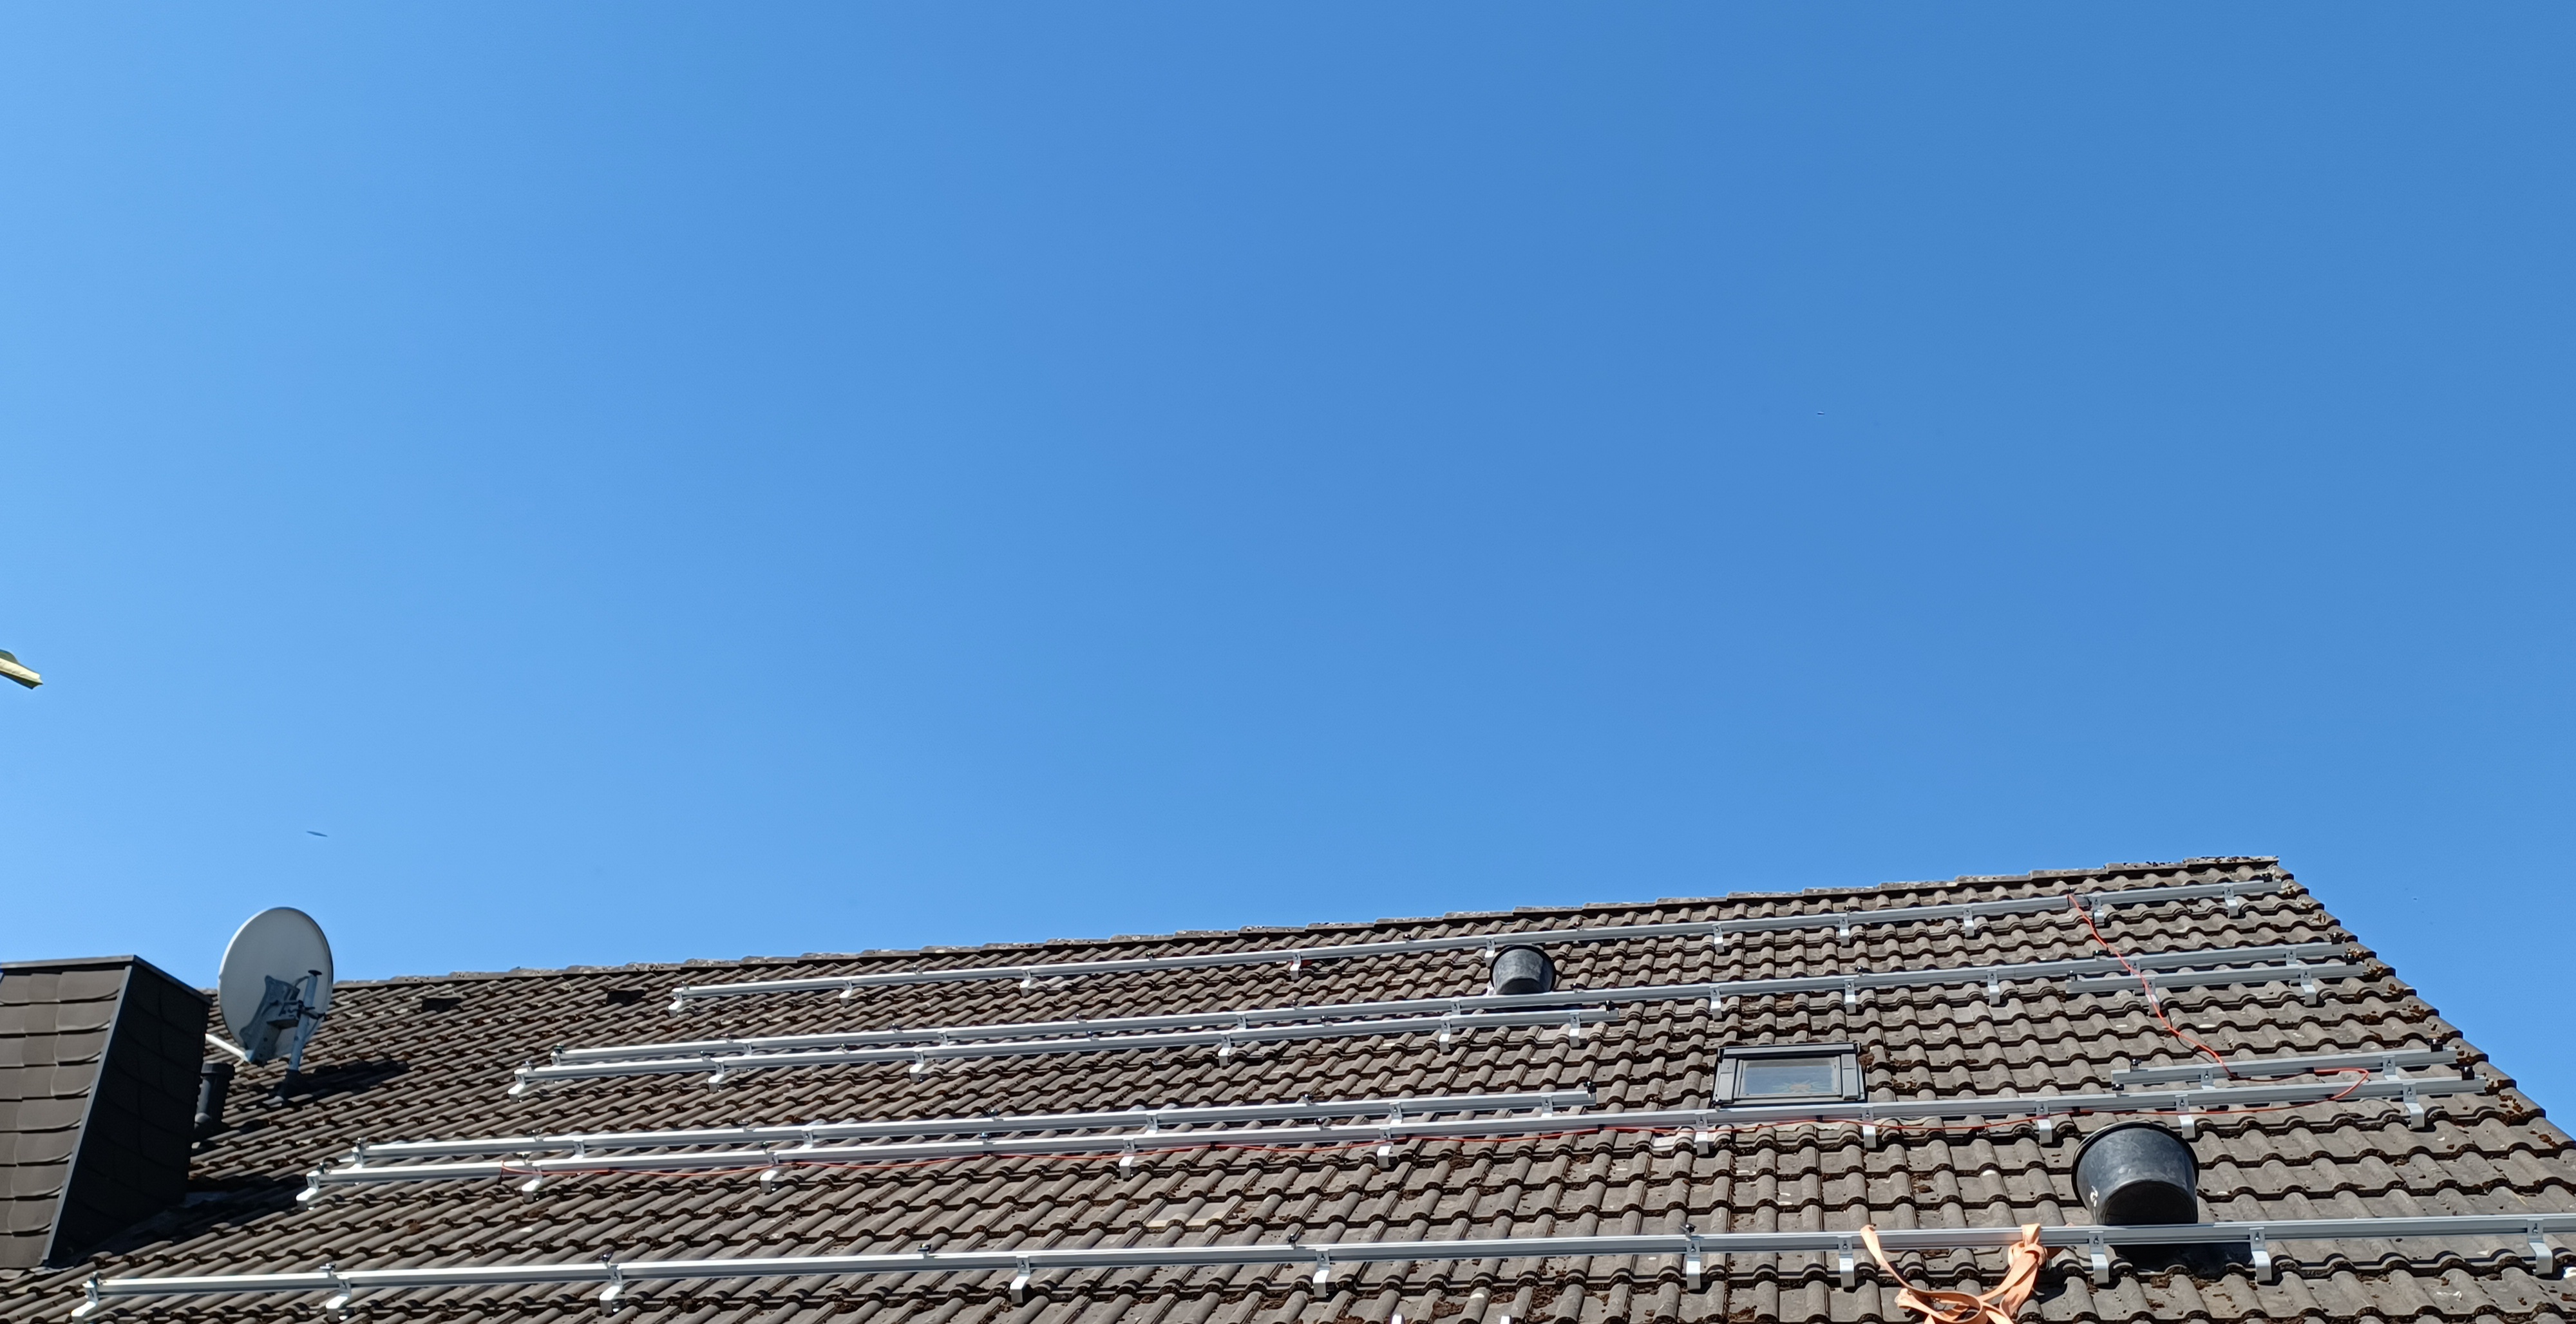hook: (2527, 1218, 2552, 1275), (326, 1275, 353, 1324), (599, 1265, 625, 1316), (2250, 1226, 2272, 1283), (71, 1283, 100, 1324), (1009, 1255, 1031, 1305), (2088, 1231, 2108, 1285), (2174, 1094, 2196, 1138), (2382, 1055, 2404, 1099), (2404, 1083, 2424, 1130), (1312, 1248, 1330, 1299), (295, 1174, 319, 1213), (522, 1164, 545, 1202), (1838, 1234, 1855, 1289), (2200, 1067, 2220, 1110), (1685, 1240, 1702, 1290), (2036, 1099, 2053, 1145), (344, 1148, 365, 1186), (760, 1153, 778, 1194), (2299, 966, 2316, 1007), (1119, 1137, 1134, 1180), (707, 1059, 726, 1094), (2129, 958, 2146, 995), (2144, 978, 2161, 1015), (544, 1052, 562, 1086), (567, 1140, 584, 1175), (508, 1071, 527, 1103), (1862, 1106, 1875, 1148), (1695, 1113, 1708, 1153), (1377, 1128, 1391, 1169), (910, 1049, 925, 1083), (1541, 1094, 1553, 1137), (2225, 883, 2238, 919), (2286, 949, 2299, 985), (1438, 1017, 1452, 1052), (1987, 969, 2000, 1005), (1962, 905, 1975, 939), (2092, 895, 2105, 929), (935, 1030, 949, 1064), (1234, 1013, 1247, 1047), (1568, 1013, 1582, 1047), (839, 978, 854, 1007), (1712, 924, 1725, 956), (668, 990, 684, 1017), (739, 1042, 753, 1072), (1838, 914, 1850, 947), (1219, 1032, 1231, 1066), (1710, 986, 1722, 1020), (1843, 979, 1855, 1013), (1290, 949, 1302, 981), (1020, 968, 1031, 998), (1484, 936, 1494, 969), (1452, 1000, 1462, 1034), (797, 1130, 812, 1150), (1145, 1113, 1158, 1135), (1389, 1103, 1403, 1123)
